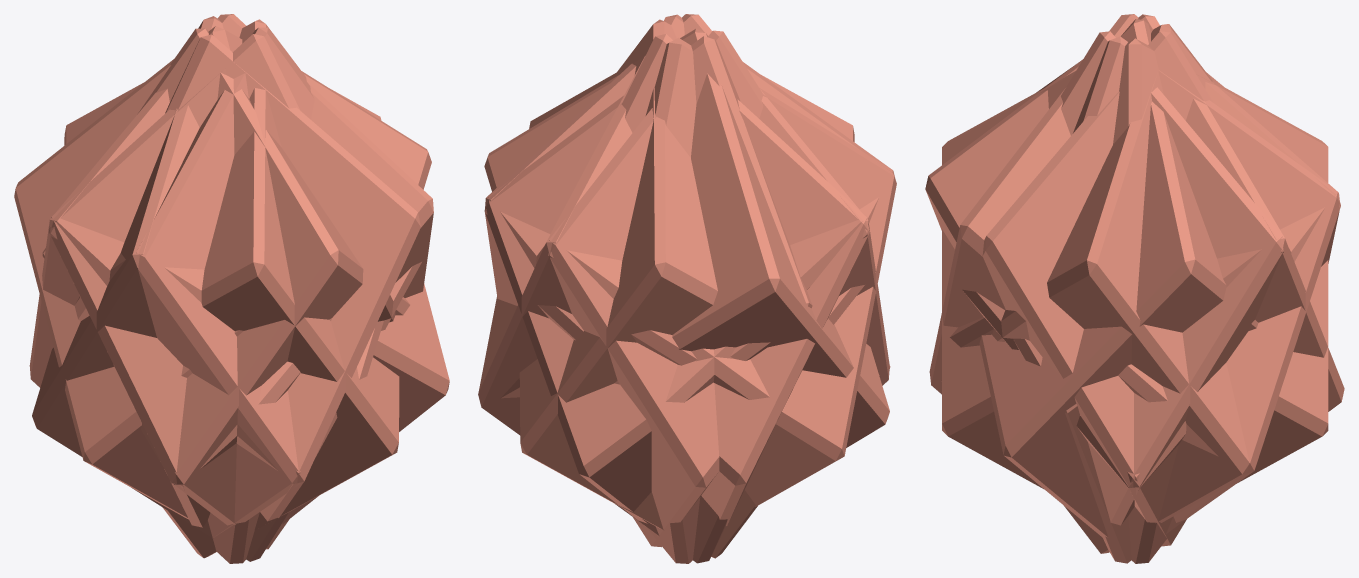
File: Crystals.glb
3 views of the same model, side by side, from view 1: azimuth 30°, elevation 25°; view 2: azimuth 150°, elevation 25°; view 3: azimuth 270°, elevation 25° (orthographic).
Visible parts, largest first — view 1: Crystals1_1, Crystals2_1, Crystals4_1, Crystals5_1, Crystals6_1, Crystals3_1, Crystals7_1, Crystals8_1; view 2: Crystals4_1, Crystals1_1, Crystals7_1, Crystals5_1, Crystals6_1, Crystals8_1, Crystals2_1, Crystals3_1; view 3: Crystals4_1, Crystals7_1, Crystals8_1, Crystals3_1, Crystals1_1, Crystals2_1, Crystals6_1, Crystals5_1.
Boxes of the visible parts, x1,y1,x2,y2 form: Crystals1_1: (64, 19, 399, 558); Crystals2_1: (109, 27, 421, 538); Crystals4_1: (14, 26, 449, 524); Crystals5_1: (74, 34, 420, 521); Crystals6_1: (42, 28, 409, 549); Crystals3_1: (49, 34, 395, 527); Crystals7_1: (32, 16, 431, 561); Crystals8_1: (29, 14, 433, 563); Crystals4_1: (484, 29, 889, 447); Crystals1_1: (519, 19, 854, 558); Crystals7_1: (478, 37, 896, 506); Crystals5_1: (536, 30, 864, 547); Crystals6_1: (484, 36, 890, 526); Crystals8_1: (538, 34, 869, 525); Crystals2_1: (478, 14, 895, 563); Crystals3_1: (484, 14, 889, 563); Crystals4_1: (979, 19, 1258, 539); Crystals7_1: (950, 24, 1249, 553); Crystals8_1: (982, 31, 1212, 525); Crystals3_1: (962, 31, 1291, 546); Crystals1_1: (942, 38, 1328, 488); Crystals2_1: (929, 36, 1340, 522); Crystals6_1: (925, 14, 1344, 563); Crystals5_1: (930, 14, 1340, 563).
Size of what is drawn, in the model's own units: 23752 by 32816 by 23740.
